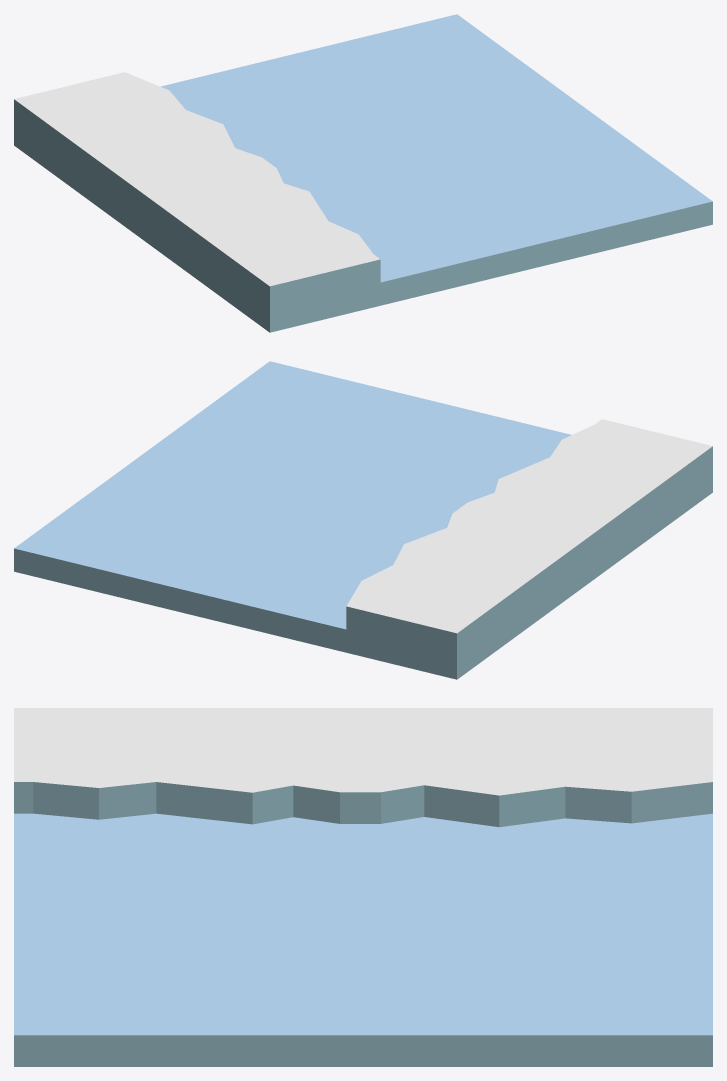
File: Terrain_Modular_Tiles_Snow_Ice_Water_Edge_Straight_03.fbx
The picture shows the model from 3 angles, top to bottom: view 1: azimuth 30°, elevation 25°; view 2: azimuth 150°, elevation 25°; view 3: azimuth 270°, elevation 25°; orthographic projection. The views are drawn at different scales.
Parts seen in each view (by area): view 1: Terrain_Modular_Tiles_Snow_Ice_Water_Edge_Straight_03; view 2: Terrain_Modular_Tiles_Snow_Ice_Water_Edge_Straight_03; view 3: Terrain_Modular_Tiles_Snow_Ice_Water_Edge_Straight_03.
Boxes of the visible parts, x1=… form: Terrain_Modular_Tiles_Snow_Ice_Water_Edge_Straight_03: x1=14, y1=14, x2=712, y2=332; Terrain_Modular_Tiles_Snow_Ice_Water_Edge_Straight_03: x1=14, y1=361, x2=712, y2=679; Terrain_Modular_Tiles_Snow_Ice_Water_Edge_Straight_03: x1=14, y1=708, x2=712, y2=1066.
Size of the model in its own units: 3000 by 300 by 3000.
